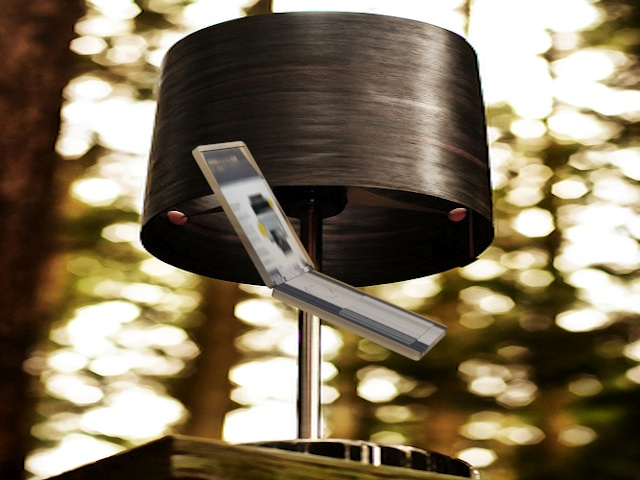mobile_phone: (192, 129, 449, 369)
